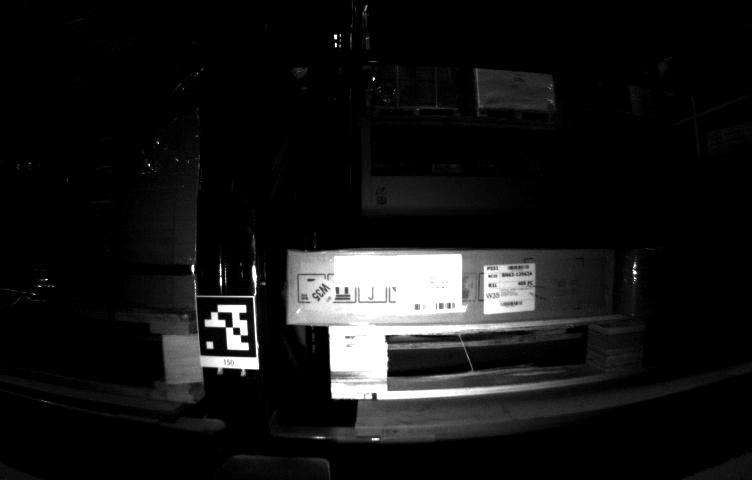True Barcode: (482, 265, 535, 311)
